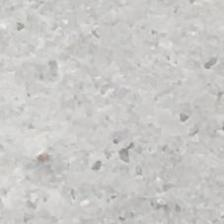Non_Crack: (33, 7, 224, 224)
